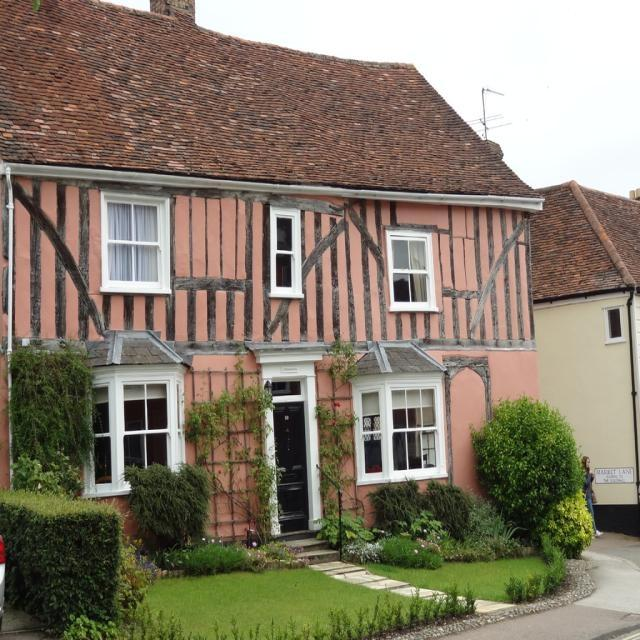door: (262, 357, 326, 542)
